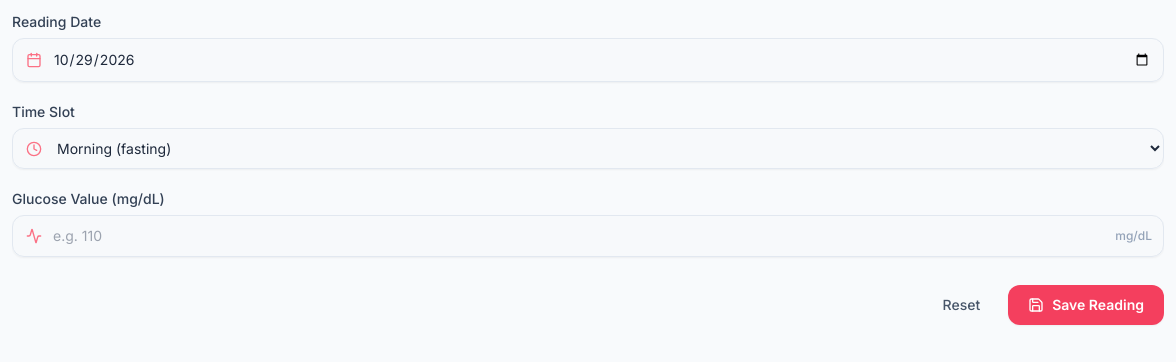
Scenario: GlucoseReadingForm Component Tests › Displays error when glucose value is below 40
The width and height of the screenshot is (1176, 362).
Type "35" into the number field labelled "Glucose Value (mg/dL)" at point(588, 236), box [12, 215, 1164, 257]
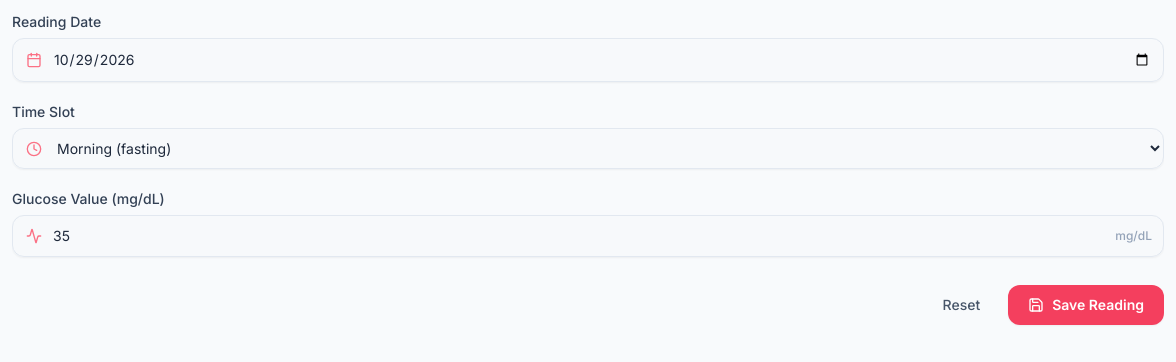
Click the button "Save Reading" at point(1086, 305), box [1008, 285, 1164, 325]
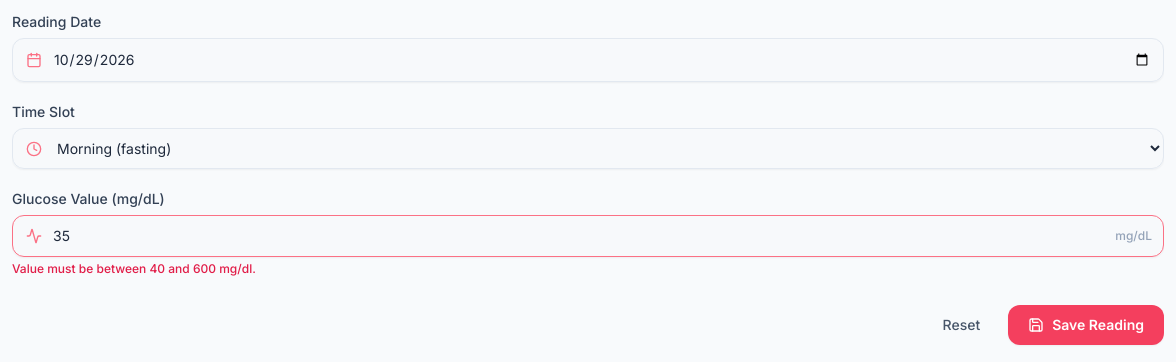
Expected: the text "Value must be between 40 and 600 mg/dl." is shown, [12, 261, 256, 276]
